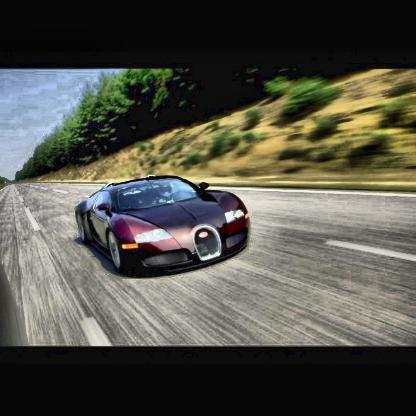Bugatti Veyron 16-4 Coupe 2009: (73, 174, 253, 281)
